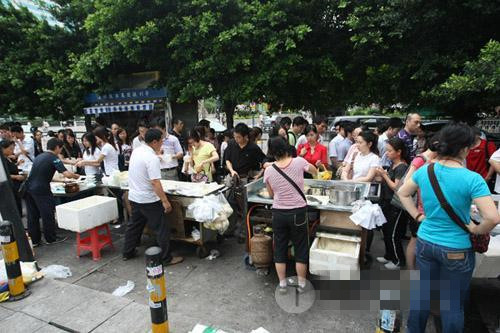vendors: (241, 173, 388, 284), (96, 166, 235, 260), (45, 172, 97, 199)
